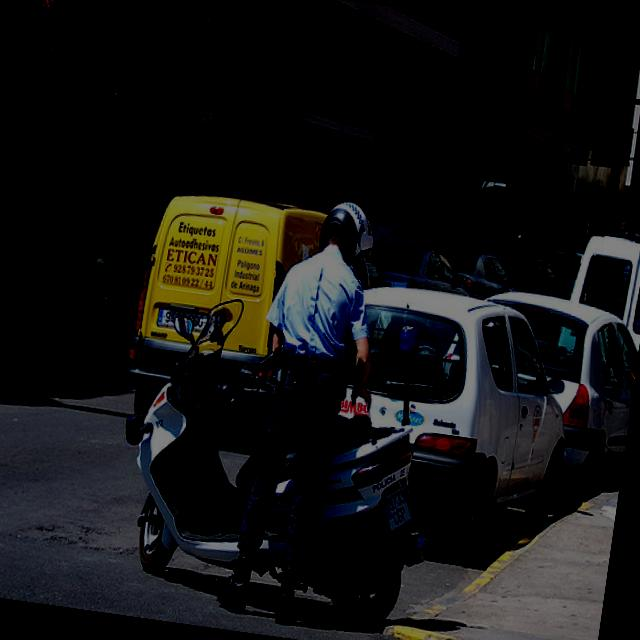Vehicle: (105, 330, 449, 628), (322, 264, 586, 574), (453, 283, 640, 523), (5, 209, 158, 382), (553, 230, 640, 404), (0, 223, 62, 390), (436, 242, 526, 306), (368, 242, 468, 296), (494, 250, 576, 300), (543, 246, 585, 289)
